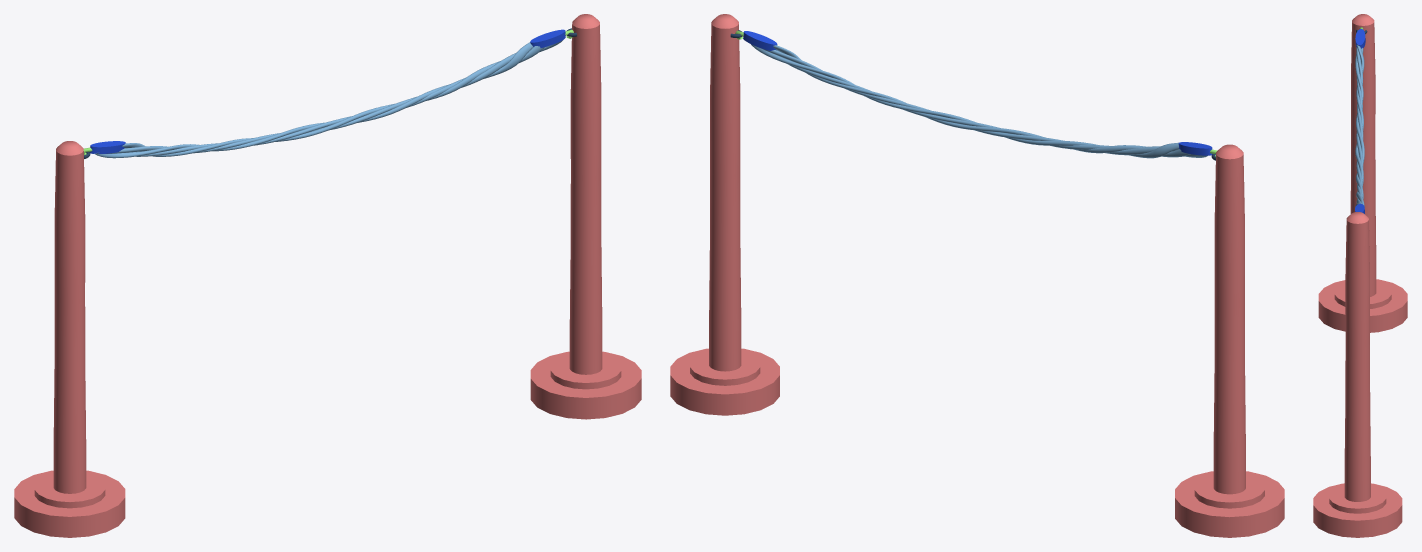
Rendered from barrier.fbx.
3 views of the same model, side by side, from view 1: azimuth 30°, elevation 25°; view 2: azimuth 150°, elevation 25°; view 3: azimuth 270°, elevation 25° (orthographic). The views are drawn at different scales.
Parts seen in each view (by area): view 1: Cylinder005; view 2: Cylinder005; view 3: Cylinder005.
Boxes of the visible parts, x1,y1,x2,y2 form: Cylinder005: (14, 14, 641, 537); Cylinder005: (670, 14, 1284, 537); Cylinder005: (1313, 14, 1407, 537).
Size of the model in its own units: 38.25 by 22.66 by 6.39.
